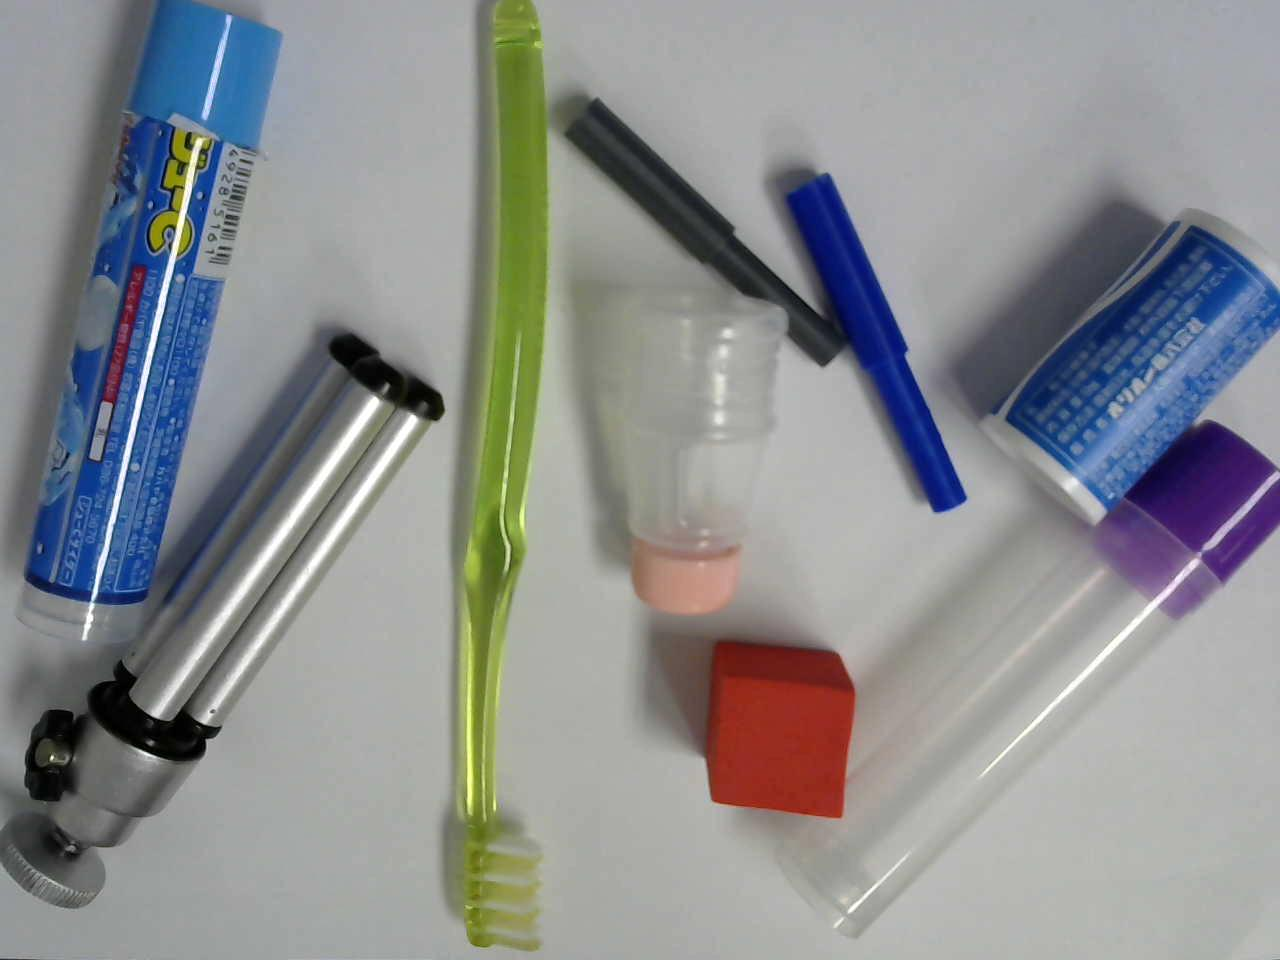block: (703, 640, 857, 817)
brush: (457, 0, 547, 950)
coke: (980, 207, 1280, 526)
cup: (619, 282, 787, 617)
dai: (0, 332, 443, 909)
jyuc: (21, 0, 281, 640)
jyuc_g: (775, 419, 1280, 942)
pen2: (564, 98, 849, 368), (787, 173, 967, 512)
pen_gray: (564, 98, 849, 368)
